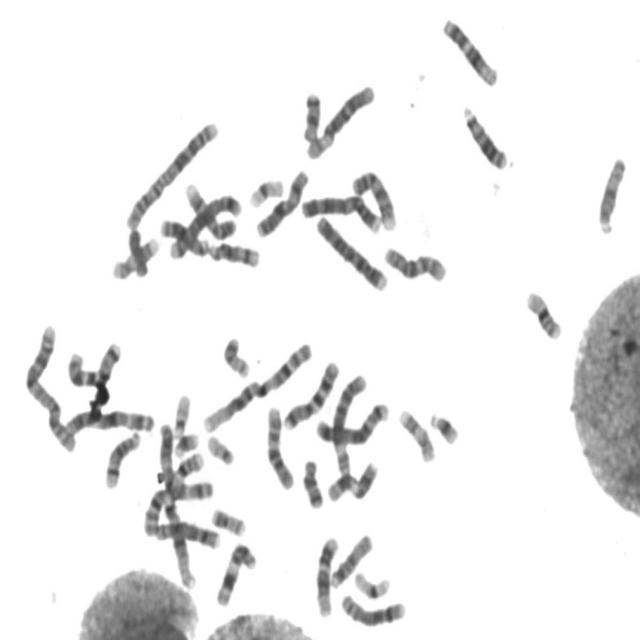A1: (197, 336, 315, 436), (141, 488, 198, 588)
A2: (120, 114, 220, 232), (20, 318, 80, 454)
A3: (155, 416, 214, 502), (60, 401, 156, 438)
B4: (312, 210, 390, 294), (296, 188, 384, 234)
B5: (164, 188, 243, 260), (312, 395, 392, 446)
C10: (380, 239, 450, 284), (262, 399, 296, 491)
C11: (212, 536, 258, 608), (323, 455, 380, 504)
C12: (438, 10, 501, 88), (311, 530, 341, 618)
C6: (302, 77, 378, 162), (328, 368, 370, 478)
C7: (280, 354, 342, 432), (64, 336, 124, 392)
C8: (336, 587, 408, 629), (148, 514, 224, 550)
C9: (181, 177, 238, 241), (348, 164, 399, 232)
D13: (458, 98, 510, 172), (156, 213, 211, 258)
D14: (100, 425, 142, 491), (204, 235, 262, 269)
D15: (327, 528, 375, 589), (594, 150, 628, 236)
E16: (521, 283, 565, 342), (173, 452, 207, 487)
E17: (108, 230, 162, 281), (394, 402, 438, 464)
E18: (298, 452, 326, 510), (298, 85, 324, 145)
F19: (350, 564, 393, 601), (244, 172, 286, 209)
F20: (218, 330, 253, 379), (207, 502, 248, 537)
G21: (426, 406, 461, 446), (170, 425, 200, 459)
G22: (203, 428, 236, 467), (169, 387, 193, 438)
X: (252, 163, 311, 239)
Y: (124, 222, 152, 280)
